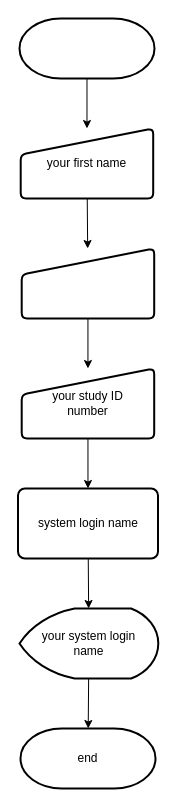
Some shapes in this 177 by 806 pixel diagram are drawn without their labels. Here are the shapes that lost their labels. From the top down, the box of each, then its label:
(18, 17, 155, 79): strat
(20, 247, 155, 319): your last name
